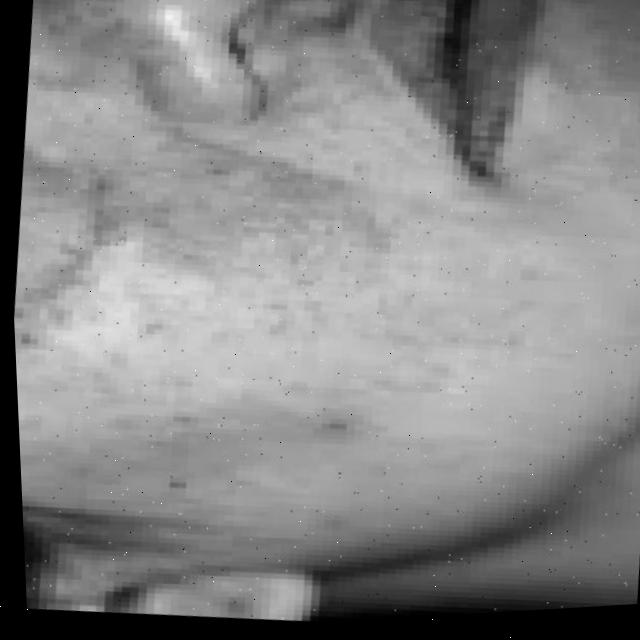Melasma: (45, 109, 382, 340)
